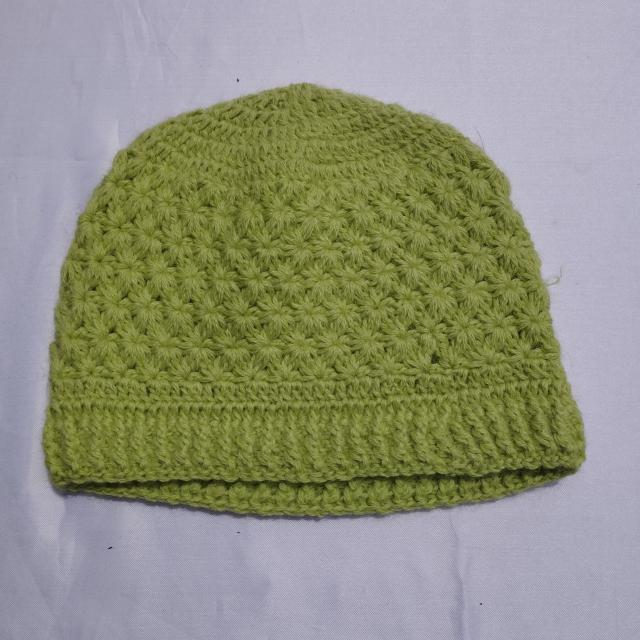Gorro: (42, 81, 587, 518)
